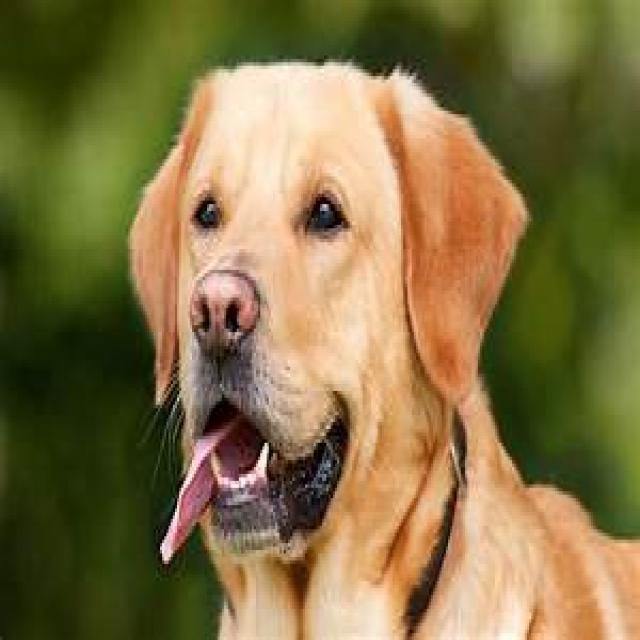KOPEK: (130, 41, 640, 640)
